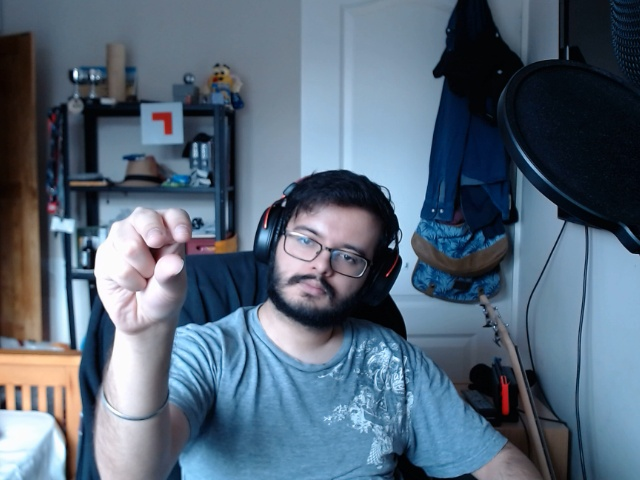No: (83, 188, 207, 351)
